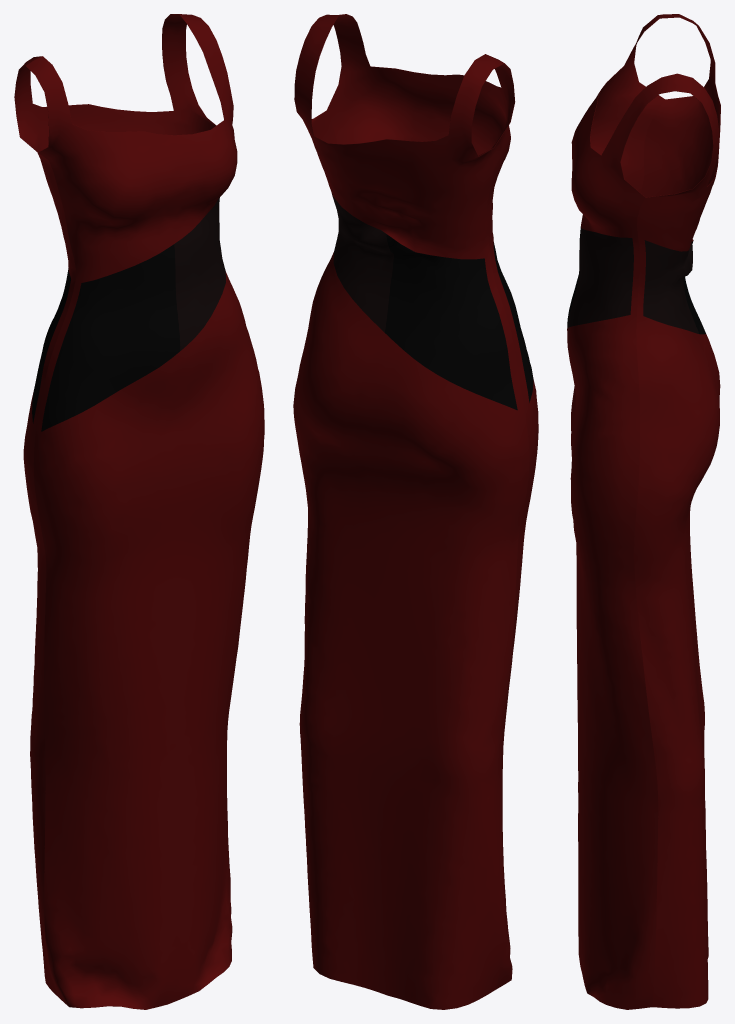
Rendered from partywear_girl_dress.glb.
The picture shows the model from 3 angles, left to right: view 1: azimuth 30°, elevation 25°; view 2: azimuth 150°, elevation 25°; view 3: azimuth 270°, elevation 25°; orthographic projection. The views are drawn at different scales.
Visible parts, largest first — view 1: bl dr; view 2: bl dr; view 3: bl dr.
Part boxes in pixels (x1,y1,x2,y2): bl dr: (14,14,264,1009); bl dr: (293,14,538,1009); bl dr: (567,14,720,1009).
Bounding box in the file's own units: 3.77 × 15.3 × 2.28.
2 materials, 1 textured.
